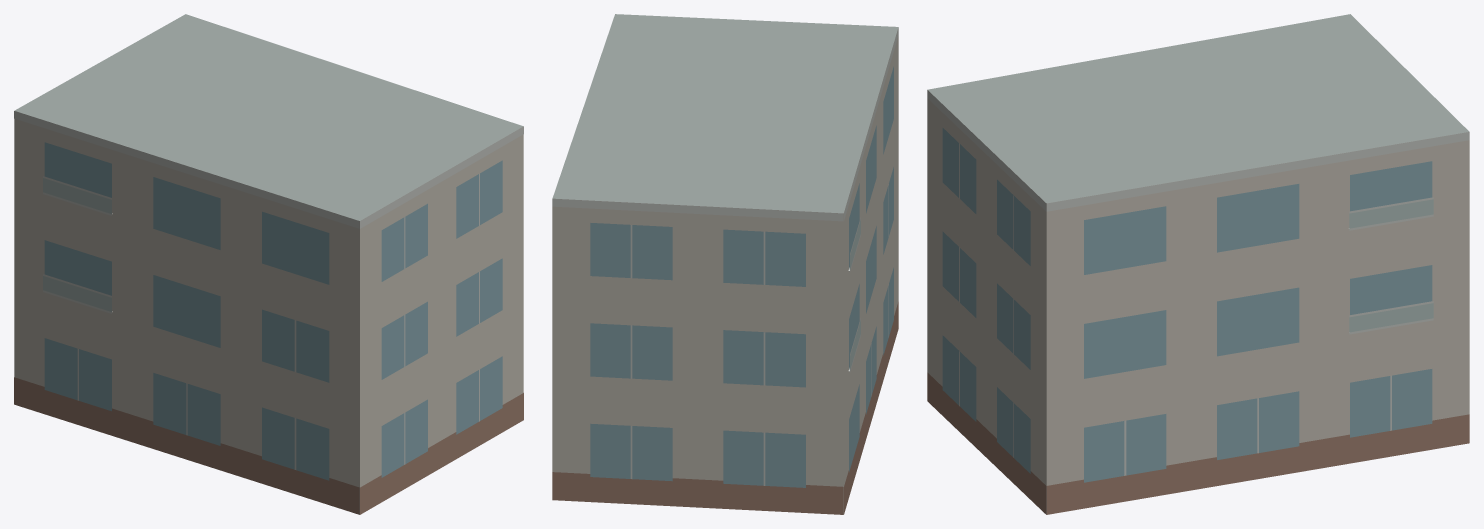
Rendered from survey-upis-32645535.glb.
3 views of the same model, side by side, from view 1: azimuth 30°, elevation 25°; view 2: azimuth 150°, elevation 25°; view 3: azimuth 270°, elevation 25° (orthographic). The views are drawn at different scales.
Visible parts, largest first — view 1: survey-upis-32645535.tmp; view 2: survey-upis-32645535.tmp; view 3: survey-upis-32645535.tmp.
Boxes of the visible parts, <box> form: survey-upis-32645535.tmp: <box>14,14,523,514</box>; survey-upis-32645535.tmp: <box>552,14,898,514</box>; survey-upis-32645535.tmp: <box>927,14,1469,514</box>.
Size of the model in its own units: 11.95 by 9.15 by 14.45.
